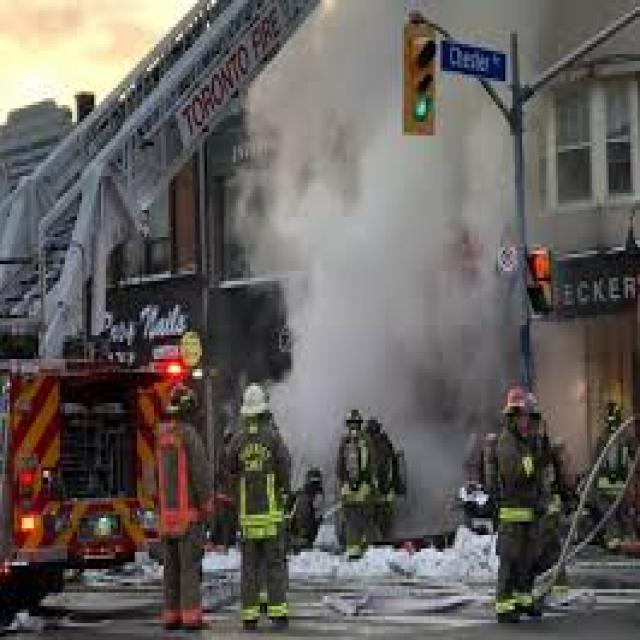Smoke: (224, 0, 540, 539)
